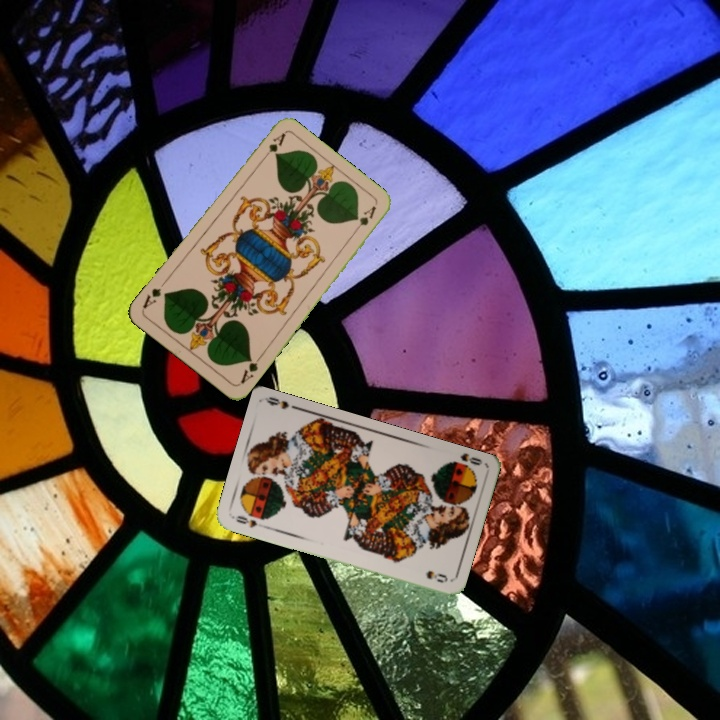GA: (257, 129, 288, 164), (236, 351, 264, 386)
SO: (445, 449, 485, 472), (232, 512, 270, 531)
